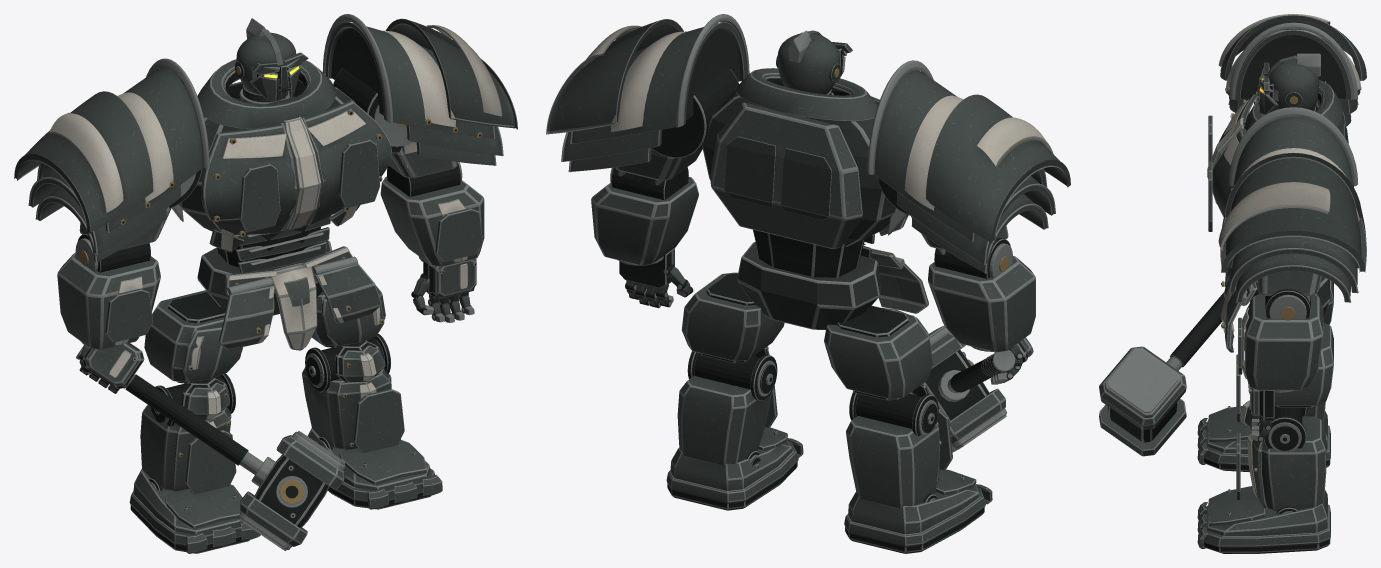
Rendered from tank-t4-warden.glb.
The picture shows the model from 3 angles, left to right: view 1: azimuth 30°, elevation 25°; view 2: azimuth 150°, elevation 25°; view 3: azimuth 270°, elevation 25°; orthographic projection. The views are drawn at different scales.
Parts seen in each view (by area): view 1: chest__clay, pauldronR__clay, pauldronL__clay, weaponR__metal, elbowR__clay, kneeL__clay, kneeR__clay, elbowL__clay, pelvis__metal, ankleR__clay, hipR__clay, ankleL__clay (+21 smaller); view 2: pauldronR__clay, pauldronL__clay, chest__clay, chest__metal, pelvis__metal, kneeR__clay, elbowR__clay, kneeL__clay, elbowL__clay, hipR__clay, ankleR__clay, ankleL__clay (+20 smaller); view 3: pauldronL__clay, elbowL__clay, ankleL__clay, kneeL__clay, weaponR__metal, pauldronR__clay, pauldronR__metal, chest__clay, weaponR__clay, ankleR__clay, pauldronL__metal, head__clay (+13 smaller).
Part boxes in pixels (x1=…): chest__clay: x1=197, y1=59, x2=391, y2=252; pauldronR__clay: x1=14, y1=68, x2=202, y2=261; pauldronL__clay: x1=325, y1=18, x2=517, y2=165; weaponR__metal: x1=76, y1=346, x2=345, y2=550; elbowR__clay: x1=57, y1=252, x2=160, y2=349; kneeL__clay: x1=302, y1=345, x2=404, y2=453; kneeR__clay: x1=140, y1=382, x2=236, y2=494; elbowL__clay: x1=380, y1=176, x2=484, y2=266; pelvis__metal: x1=197, y1=216, x2=358, y2=315; ankleR__clay: x1=129, y1=468, x2=260, y2=553; hipR__clay: x1=144, y1=290, x2=242, y2=382; ankleL__clay: x1=308, y1=428, x2=442, y2=509; pauldronR__clay: x1=874, y1=70, x2=1070, y2=272; pauldronL__clay: x1=546, y1=19, x2=746, y2=171; chest__clay: x1=710, y1=68, x2=908, y2=249; chest__metal: x1=702, y1=75, x2=907, y2=246; pelvis__metal: x1=737, y1=229, x2=904, y2=330; kneeR__clay: x1=846, y1=382, x2=952, y2=508; elbowR__clay: x1=928, y1=256, x2=1035, y2=352; kneeL__clay: x1=677, y1=346, x2=777, y2=464; elbowL__clay: x1=591, y1=177, x2=698, y2=265; hipR__clay: x1=824, y1=305, x2=933, y2=399; ankleR__clay: x1=844, y1=469, x2=992, y2=547; ankleL__clay: x1=666, y1=427, x2=803, y2=503; pauldronL__clay: x1=1218, y1=116, x2=1366, y2=302; elbowL__clay: x1=1238, y1=294, x2=1323, y2=390; ankleL__clay: x1=1197, y1=486, x2=1330, y2=548; kneeL__clay: x1=1236, y1=400, x2=1326, y2=511; weaponR__metal: x1=1104, y1=292, x2=1224, y2=442; pauldronR__clay: x1=1218, y1=14, x2=1366, y2=126; pauldronR__metal: x1=1225, y1=22, x2=1361, y2=116; chest__clay: x1=1207, y1=80, x2=1345, y2=231; weaponR__clay: x1=1099, y1=346, x2=1186, y2=456; ankleR__clay: x1=1197, y1=406, x2=1330, y2=465; pauldronL__metal: x1=1228, y1=107, x2=1358, y2=302; head__clay: x1=1259, y1=58, x2=1318, y2=114.
Bounding box in the file's own units: 3.87 × 4.01 × 2.2.
12 materials, 10 textured.
